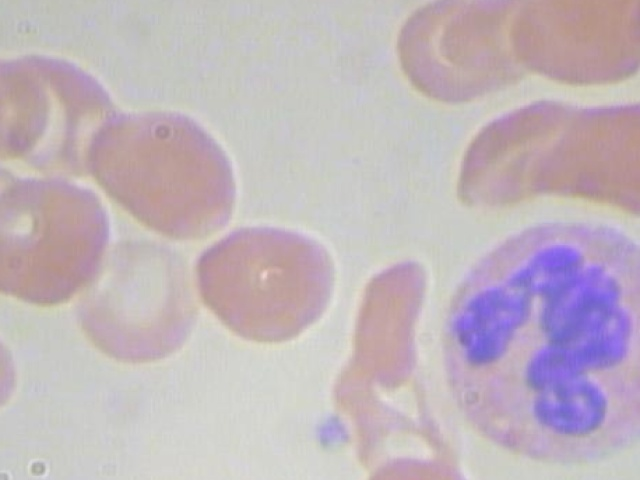Platelets: (298, 410, 357, 462)
RBC: (82, 99, 246, 247), (80, 97, 244, 244), (190, 220, 350, 343), (0, 166, 122, 303), (71, 236, 199, 366), (450, 92, 593, 206), (384, 0, 515, 101), (344, 252, 438, 391), (560, 88, 640, 221), (525, 0, 640, 69), (0, 46, 52, 166), (351, 448, 494, 480), (0, 159, 34, 279), (0, 308, 27, 428), (0, 0, 16, 18)
WBC: (426, 207, 640, 475)
